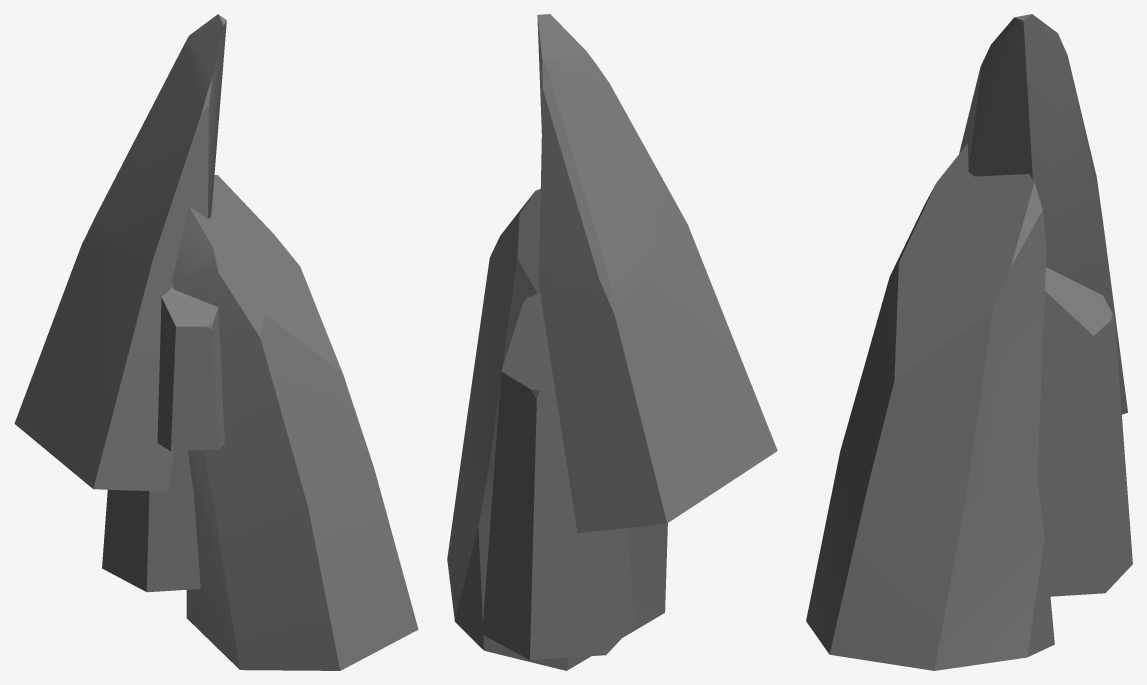
The model's file is rock_formation10.fbx.
The picture shows the model from 3 angles, left to right: view 1: azimuth 30°, elevation 25°; view 2: azimuth 150°, elevation 25°; view 3: azimuth 270°, elevation 25°; orthographic projection. The views are drawn at different scales.
Visible parts, largest first — view 1: rock; view 2: rock; view 3: rock.
Part boxes in pixels (bbox=[...]): rock: bbox=[14, 14, 418, 670]; rock: bbox=[447, 14, 777, 670]; rock: bbox=[806, 14, 1132, 670].
Bounding box in the file's own units: 3047 × 5724 × 2737.
